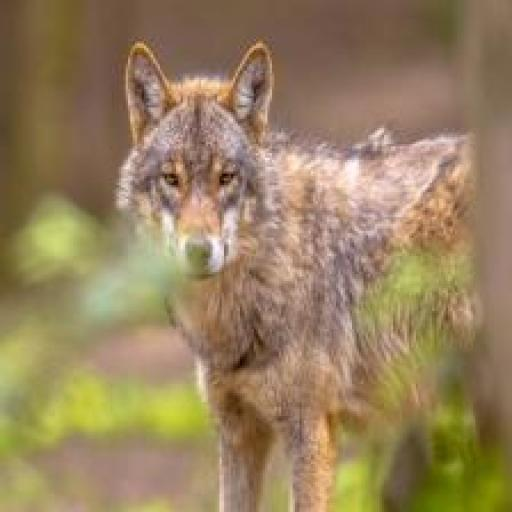wolf: (94, 11, 511, 511)
